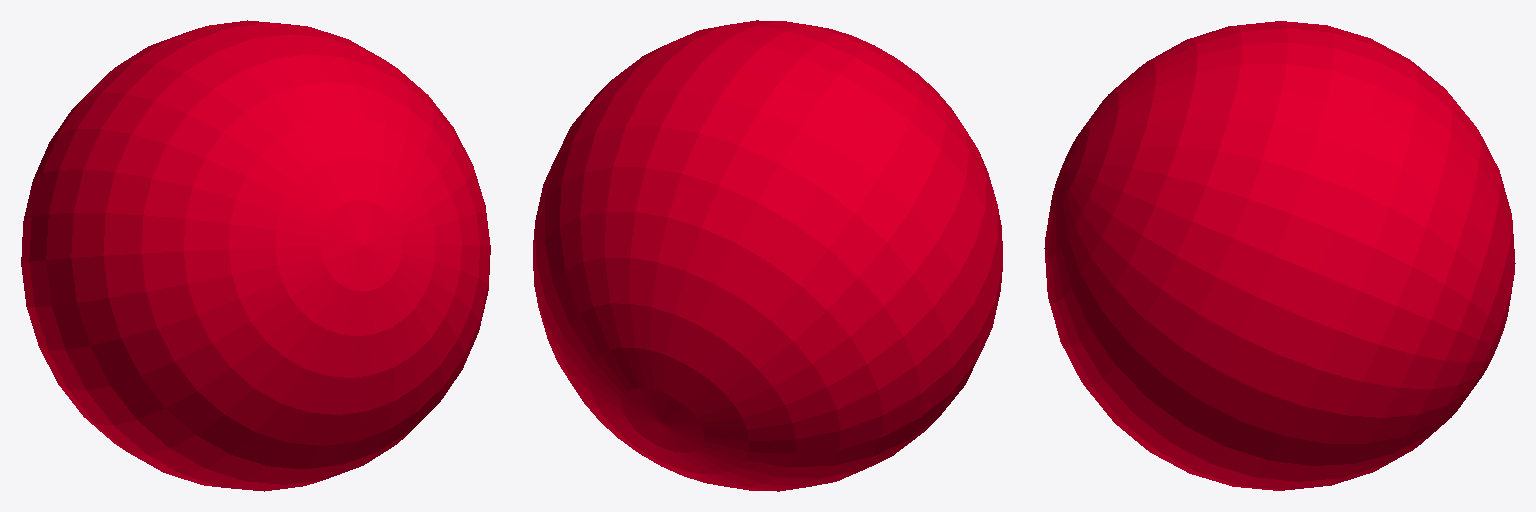
The robot description file, URDF, robot "universal_robot":
<?xml version="1.0"?>
<!--FOR GRIPPER, THERE IS NO LINK INERTIA DEFINED HERE-->
<robot name="universal_robot">

  <!-- Colors -->
  <material name="DarkGrey">
    <color rgba="0.2 0.2 0.2 1.0"/>
  </material>
  <material name="Grey">
    <color rgba="0.4 0.4 0.4 1.0"/>
  </material>
  <material name="Orange">
    <color rgba="1.0 0.423529411765 0.0392156862745 1.0"/>
  </material>
  <material name="Blue">
    <color rgba="0 0.1 1.0 1.0"/>
  </material>
  <material name="LightGrey">
    <color rgba="0.7 0.7 0.7 1.0"/>
  </material>
  <material name="Red">
    <color rgba="0.9 0 0.2 1.0"/>
  </material>
  <material name="TransparentRed">
    <color rgba="0.9 0 0.2 0.5"/>
  </material>
  <material name="Green">
    <color rgba="0 0.9 0.5 1.0"/>
  </material>
  <material name="Yellow">
    <color rgba="0.7 0.7 0 1.0"/>
  </material>
  <material name="LightBlue">
    <color rgba="0. 0.3 1.0 1.0"/>
  </material>
  <material name="Black">
    <color rgba="0.05 0.05 0.05 1.0"/>
  </material>
  <material name="White">
    <color rgba="1.0 1.0 1.0 1.0" />
  </material>



    <!-- connect arm to world -->
      <link name="world"/>
      <joint name="world_joint" type="fixed">
        <parent link="world"/>
        <child link="base_link"/>
        <origin rpy="0.0 0.0 -3.14" xyz="0.0 0.0 0.0"/>
      </joint>


      <link name="base_link">
        <visual>
          <geometry>
            <mesh filename="visual/base.obj"/>
          </geometry>
          <material name="LightGrey"/>
        </visual>
        <collision>
          <geometry>
            <mesh filename="collision/base.stl"/>
          </geometry>
        </collision>
        <inertial>
          <mass value="4.0"/>
          <origin rpy="0 0 0" xyz="0.0 0.0 0.0"/>
          <inertia ixx="0.00443333156" ixy="0.0" ixz="0.0" iyy="0.00443333156" iyz="0.0" izz="0.0072"/>
        </inertial>
      </link>

      <joint name="base_joint" type="revolute">
        <parent link="base_link"/>
        <child link="shoulder_link"/>
        <origin rpy="0.0 0.0 0.0" xyz="0.0 0.0 0.089159"/>
        <axis xyz="0 0 1"/>
        <limit effort="150.0" lower="-100" upper="100" velocity="3.15"/>
        <dynamics damping="0.5" friction="0.0"/>
      </joint>

      <link name="shoulder_link">
        <visual>
          <geometry>
            <mesh filename="visual/shoulder.obj"/>
          </geometry>
          <material name="DarkGrey"/>
        </visual>
        <collision>
          <geometry>
            <mesh filename="collision/shoulder.stl"/>
          </geometry>
        </collision>
        <inertial>
          <mass value="3.7"/>
          <origin rpy="0 0 0" xyz="0.0 0.0 0.0"/>
          <inertia ixx="0.010267495893" ixy="0.0" ixz="0.0" iyy="0.010267495893" iyz="0.0" izz="0.00666"/>
        </inertial>
      </link>

      <joint name="shoulder_joint" type="revolute">
        <parent link="shoulder_link"/>
        <child link="upper_arm_link"/>
        <origin rpy="0.0 1.57079632679 0.0" xyz="0.0 0.13585 0.0"/>
        <axis xyz="0 1 0"/>
        <limit effort="150.0" lower="-100" upper="100" velocity="3.15"/>
        <dynamics damping="0.5" friction="0.0"/>
      </joint>

      <link name="upper_arm_link">
        <visual>
          <geometry>
            <mesh filename="visual/upperarm.obj"/>
          </geometry>
          <material name="LightGrey"/>
        </visual>
        <collision>
          <geometry>
            <mesh filename="collision/upperarm.stl"/>
          </geometry>
        </collision>
        <inertial>
          <mass value="8.393"/>
          <origin rpy="0 0 0" xyz="0.0 0.0 0.28"/>
          <inertia ixx="0.22689067591" ixy="0.0" ixz="0.0" iyy="0.22689067591" iyz="0.0" izz="0.0151074"/>
        </inertial>
      </link>

      <joint name="elbow_joint" type="revolute">
        <parent link="upper_arm_link"/>
        <child link="forearm_link"/>
        <origin rpy="0.0 0.0 0.0" xyz="0.0 -0.1197 0.425"/>
        <axis xyz="0 1 0"/>
        <limit effort="150.0" lower="-100" upper="100" velocity="3.15"/>
        <dynamics damping="0.5" friction="0.0"/>
      </joint>

      <link name="forearm_link">
        <visual>
          <geometry>
            <mesh filename="visual/forearm.obj"/>
          </geometry>
          <material name="DarkGrey"/>
        </visual>
        <collision>
          <geometry>
            <mesh filename="collision/forearm.stl"/>
          </geometry>
        </collision>
        <inertial>
          <mass value="2.275"/>
          <origin rpy="0 0 0" xyz="0.0 0.0 0.25"/>
          <inertia ixx="0.049443313556" ixy="0.0" ixz="0.0" iyy="0.049443313556" iyz="0.0" izz="0.004095"/>
        </inertial>
      </link>

      <joint name="wrist_1_joint" type="revolute">
        <parent link="forearm_link"/>
        <child link="wrist_1_link"/>
        <origin rpy="0.0 1.57079632679 0.0" xyz="0.0 0.0 0.39225"/>
        <axis xyz="0 1 0"/>
        <limit effort="28.0" lower="-100" upper="100" velocity="3.2"/>
        <dynamics damping="0.5" friction="0.0"/>
      </joint>

      <link name="wrist_1_link">
        <visual>
          <geometry>
            <mesh filename="visual/wrist1.obj"/>
          </geometry>
          <material name="LightGrey"/>
        </visual>
        <collision>
          <geometry>
            <mesh filename="collision/wrist1.stl"/>
          </geometry>
        </collision>
        <inertial>
          <mass value="1.219"/>
          <origin rpy="0 0 0" xyz="0.0 0.0 0.0"/>
          <inertia ixx="0.111172755531" ixy="0.0" ixz="0.0" iyy="0.111172755531" iyz="0.0" izz="0.21942"/>
        </inertial>
      </link>

      <joint name="wrist_2_joint" type="revolute">
        <parent link="wrist_1_link"/>
        <child link="wrist_2_link"/>
        <origin rpy="0.0 0.0 0.0" xyz="0.0 0.093 0.0"/>
        <axis xyz="0 0 1"/>
        <limit effort="28.0" lower="-100" upper="100" velocity="3.2"/>
        <dynamics damping="0.5" friction="0.0"/>
      </joint>

      <link name="wrist_2_link">
        <visual>
          <geometry>
            <mesh filename="visual/wrist2.obj"/>
          </geometry>
          <material name="DarkGrey"/>
        </visual>
        <collision>
          <geometry>
            <mesh filename="collision/wrist2.stl"/>
          </geometry>
        </collision>
        <inertial>
          <mass value="1.219"/>
          <origin rpy="0 0 0" xyz="0.0 0.0 0.0"/>
          <inertia ixx="0.111172755531" ixy="0.0" ixz="0.0" iyy="0.111172755531" iyz="0.0" izz="0.21942"/>
        </inertial>
      </link>

      <joint name="wrist_3_joint" type="revolute">
        <parent link="wrist_2_link"/>
        <child link="wrist_3_link"/>
        <origin rpy="0.0 0.0 0.0" xyz="0.0 0.0 0.09465"/>
        <axis xyz="0 1 0"/>
        <limit effort="28.0" lower="-100" upper="100" velocity="3.2"/>
        <dynamics damping="0.5" friction="0.0"/>
      </joint>

      <link name="wrist_3_link">
        <visual>
          <geometry>
            <mesh filename="visual/wrist3.obj"/>
          </geometry>
          <material name="LightGrey"/>
        </visual>
        <collision>
          <geometry>
            <mesh filename="collision/wrist3.stl"/>
          </geometry>
        </collision>
        <inertial>
          <mass value="0.1879"/>
          <origin rpy="0 0 0" xyz="0.0 0.0 0.0"/>
          <inertia ixx="0.0171364731454" ixy="0.0" ixz="0.0" iyy="0.0171364731454" iyz="0.0" izz="0.033822"/>
        </inertial>
      </link>

      <!-- End Effector -->
      <link name="ee_link">
        <visual>
          <origin rpy="0 0 0" xyz="0 0 0"/>
          <geometry>
            <sphere radius="0.001"/>
          </geometry>
           <material name="Red"/>
        </visual>
        <collision>
          <geometry>
            <sphere radius="0.001"/>
          </geometry>
          <!-- <origin rpy="0 0 0" xyz="0.0 0 0"/> -->
          <origin rpy="0 -1.57079632679 0" xyz="0 0 0.045"/>
        </collision>
        <!-- <inertial>
          <mass value="0.0"/>
          <origin rpy="-3.14 0.0 1.57" xyz="0.0 0.0 0.0"/>
          <inertia ixx="0.001" ixy="0.0" ixz="0.0" iyy="0.001" iyz="0.0" izz="0.001"/>
        </inertial> -->
      </link>

      <joint name="ee_joint" type="fixed">
        <parent link="wrist_3_link"/>
        <child link="ee_link"/>
        <!-- <origin rpy="1.57 3.14 0.0" xyz="0.0 0.0823 0.0"/> -->
        <origin rpy="1.14159265359 3.14159265359 3.14159265359" xyz="0 0 0.045"/>
      </joint>
</robot>

--- Render facts (derived) ---
3 views of the same robot in one strip: view 1: azimuth 30°, elevation 25°; view 2: azimuth 150°, elevation 25°; view 3: azimuth 270°, elevation 25° (orthographic).
Robot: universal_robot — 9 links, 8 joints (6 revolute, 2 fixed); root link world; default pose: all joints at 0.
Links seen in each view (by area): view 1: ee_link; view 2: ee_link; view 3: ee_link.
Boxes of the visible links, x1,y1,x2,y2 form: ee_link: [21, 20, 490, 491]; ee_link: [533, 20, 1002, 491]; ee_link: [1044, 21, 1515, 490].
Bounding box of the posed robot: 0.002 × 0.002 × 0.002 m (x, y, z).
Meshes: 7 distinct files referenced, 0 mesh visuals loaded (none loaded); not drawn: 7 (reference not matched to a file when rendering).